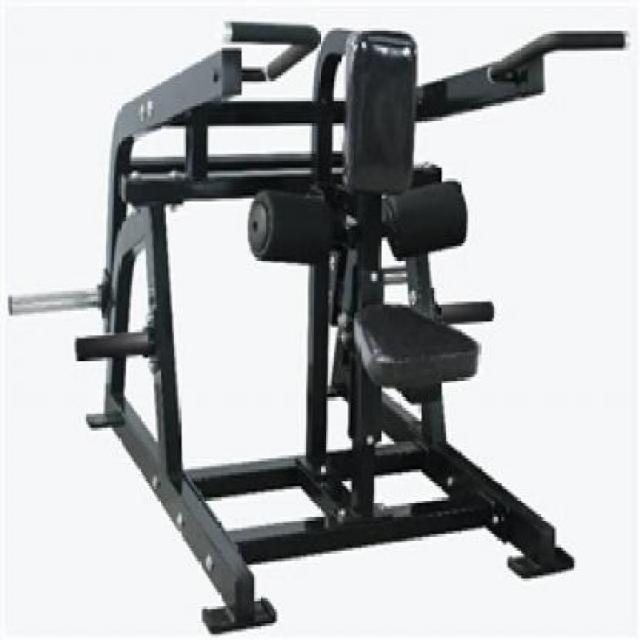seated dip machine: (8, 16, 630, 638)
